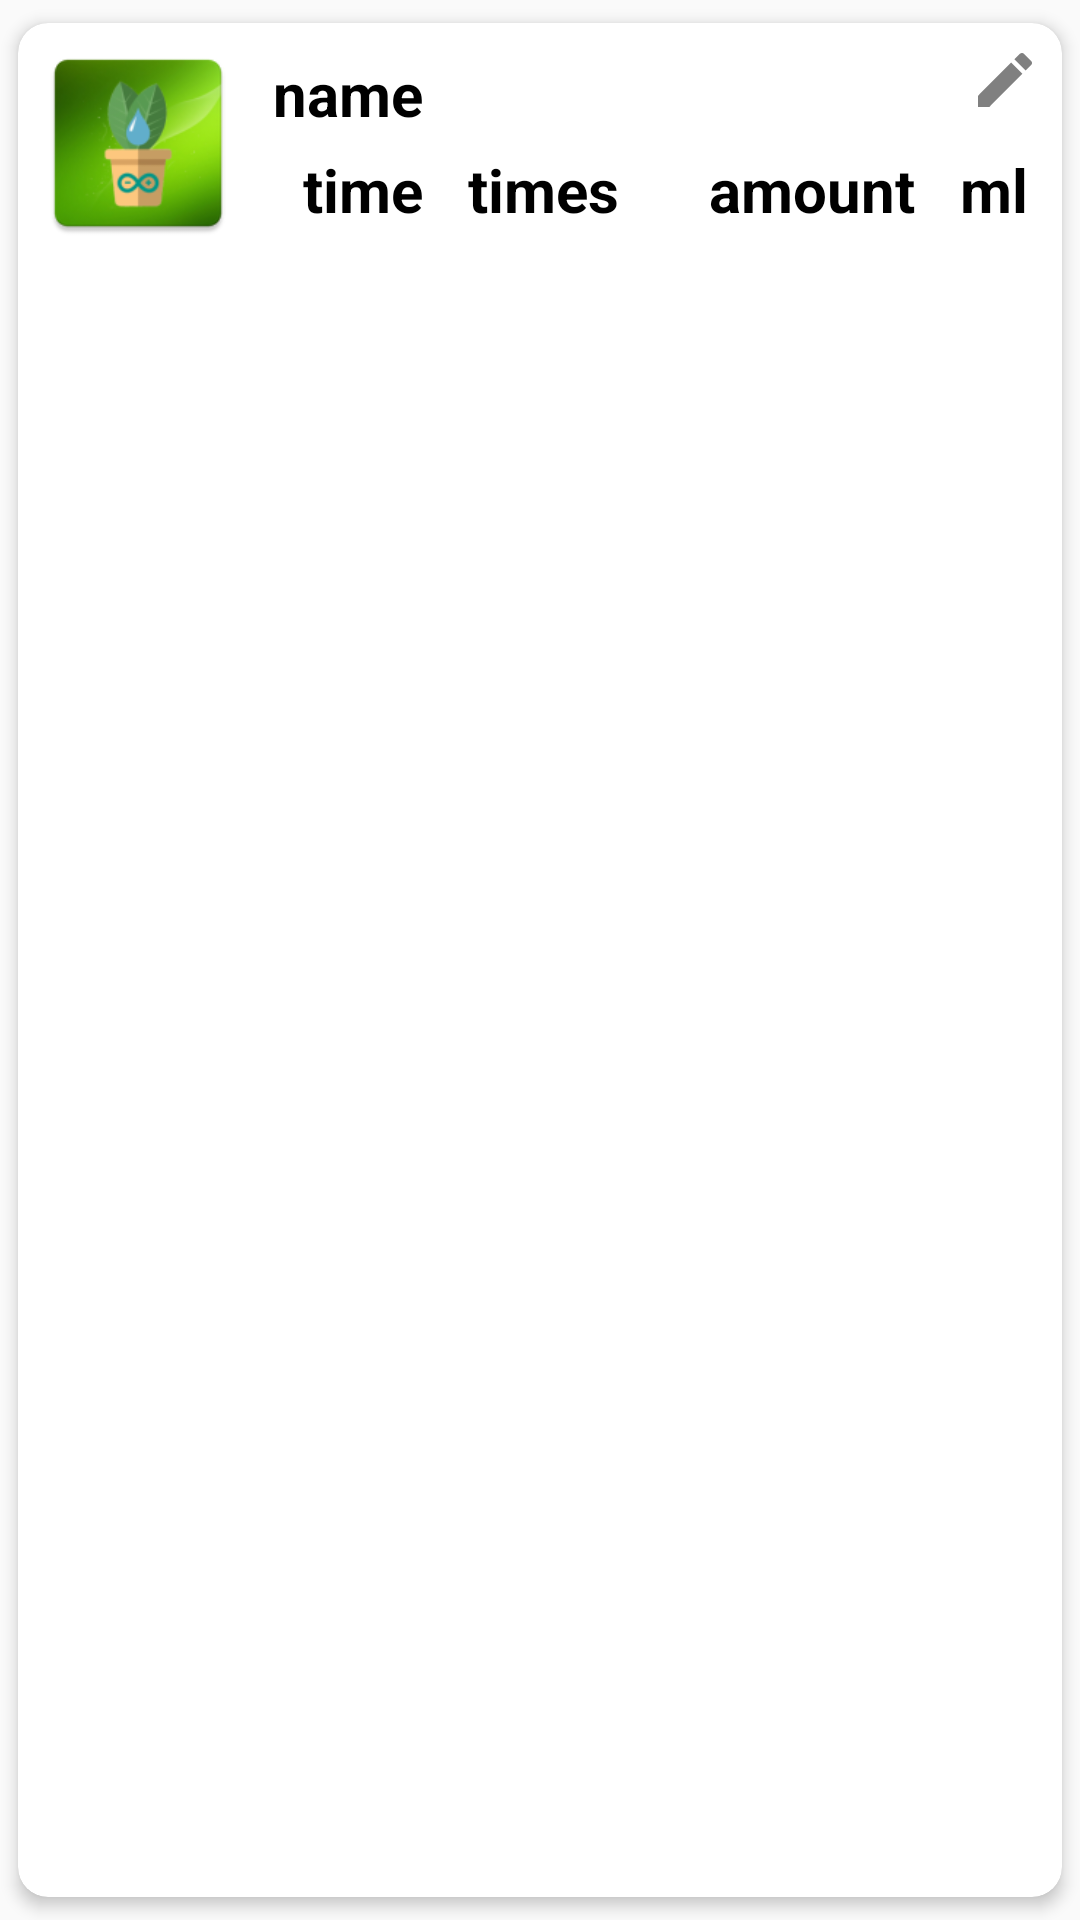

Locate icon controls on the screen. Image size 1080px x 1920px, boxes as (x1=x1, y1=y1, x2=x2, y2=y2).
edit: (x1=978, y1=53, x2=1032, y2=107)
